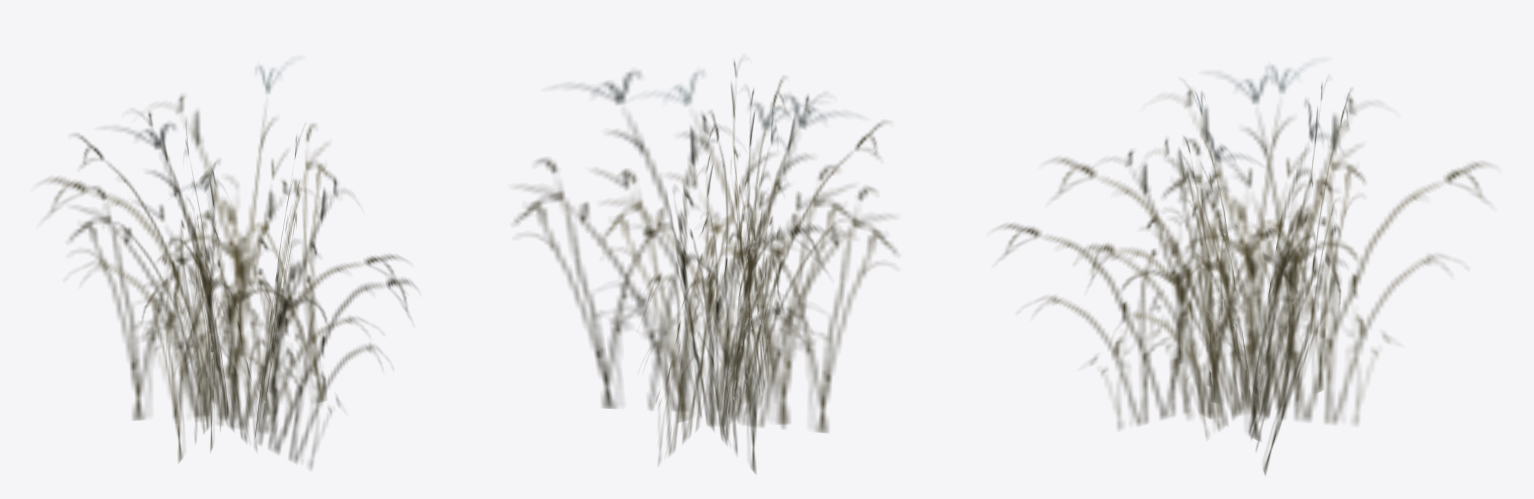
The model's file is ichu_12_nieve.glb.
The picture shows the model from 3 angles, left to right: view 1: azimuth 30°, elevation 25°; view 2: azimuth 150°, elevation 25°; view 3: azimuth 270°, elevation 25°; orthographic projection. The views are drawn at different scales.
Parts seen in each view (by area): view 1: Ichu; view 2: Ichu; view 3: Ichu.
Boxes of the visible parts, left/top/right/bottom form: Ichu: left=42, top=59, right=414, bottom=468; Ichu: left=514, top=59, right=896, bottom=473; Ichu: left=997, top=60, right=1491, bottom=475.
Size of the model in its own units: 0.3971 by 0.43 by 0.5168.
1 material, 1 textured.
